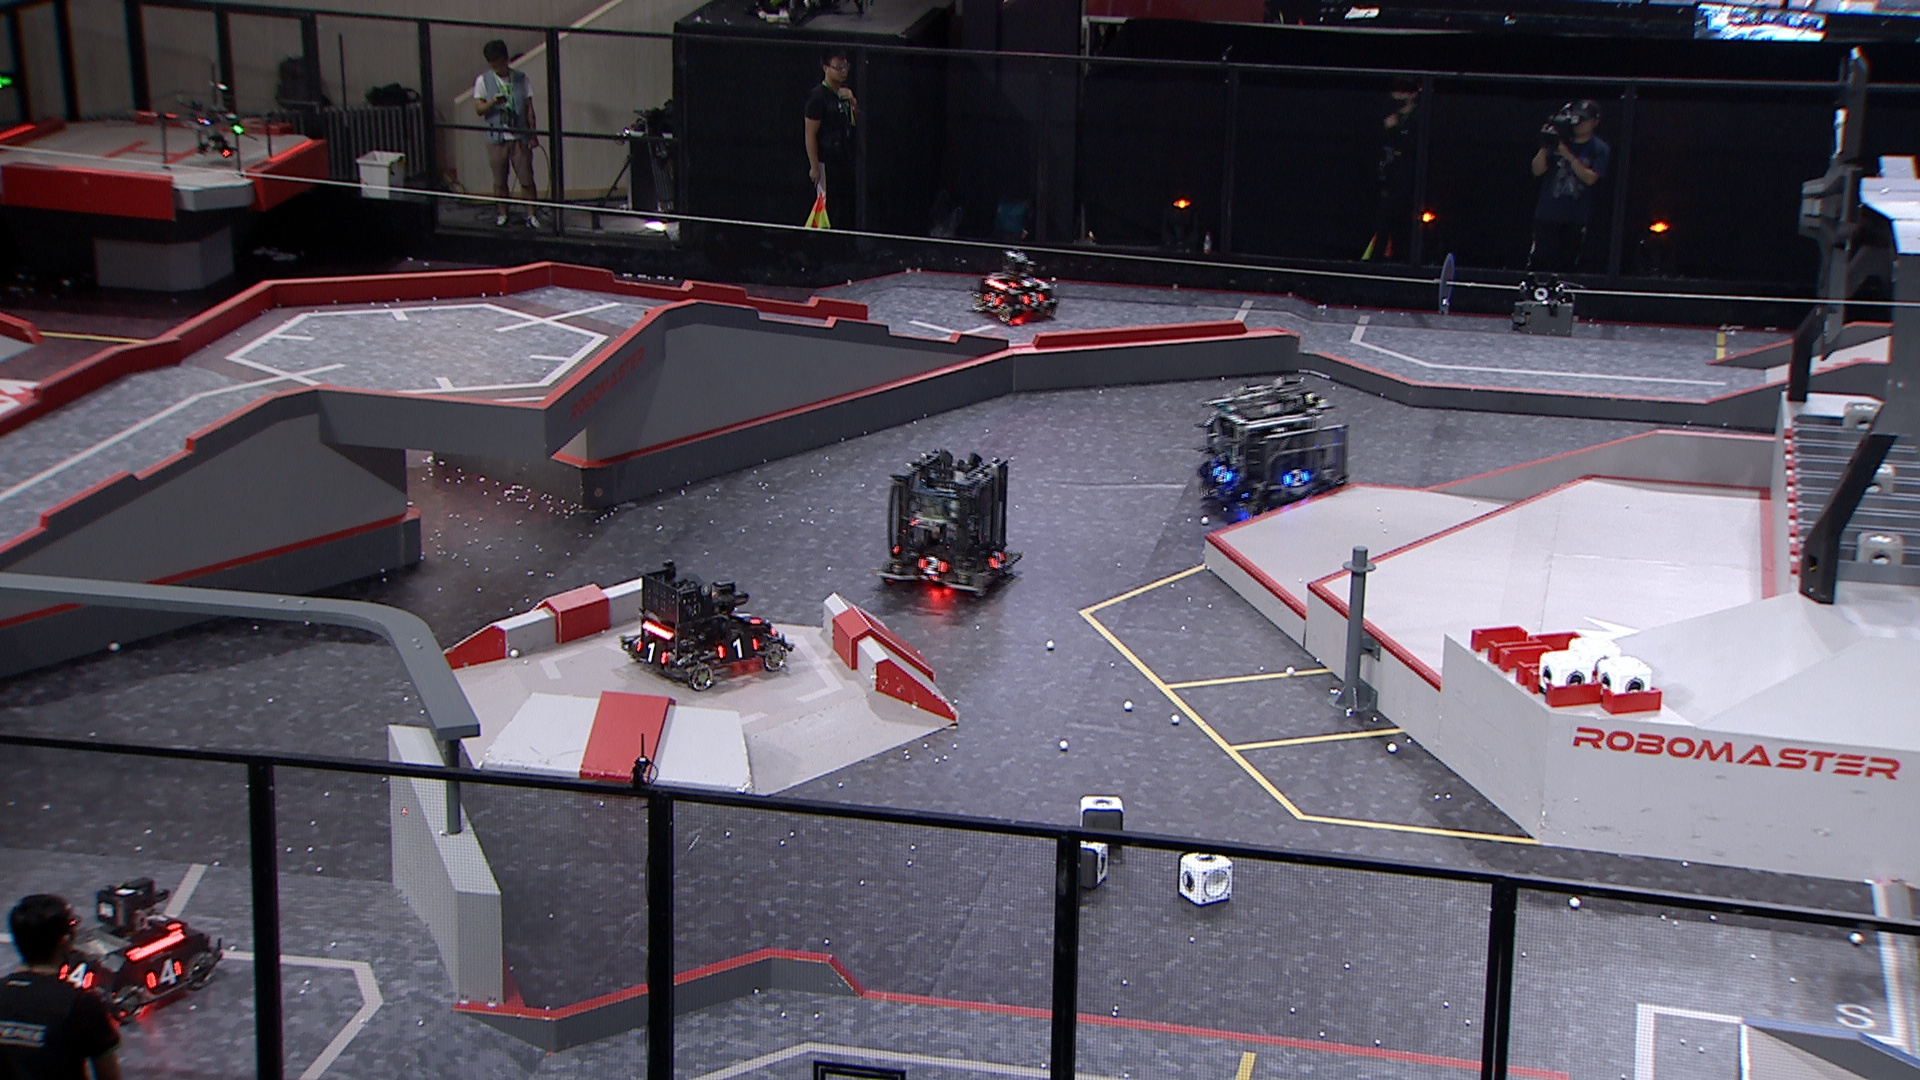armor: (713, 638, 760, 662), (58, 963, 92, 992), (149, 960, 185, 986), (636, 640, 666, 665), (144, 910, 185, 928), (735, 609, 764, 628), (1212, 463, 1232, 488), (1283, 469, 1309, 488), (920, 556, 945, 574), (988, 551, 1010, 568), (1019, 290, 1043, 306), (1007, 277, 1036, 289), (984, 290, 1002, 306)
car: (54, 878, 223, 1029), (1197, 373, 1353, 524), (878, 444, 1027, 600), (615, 559, 793, 688), (969, 247, 1060, 324)
